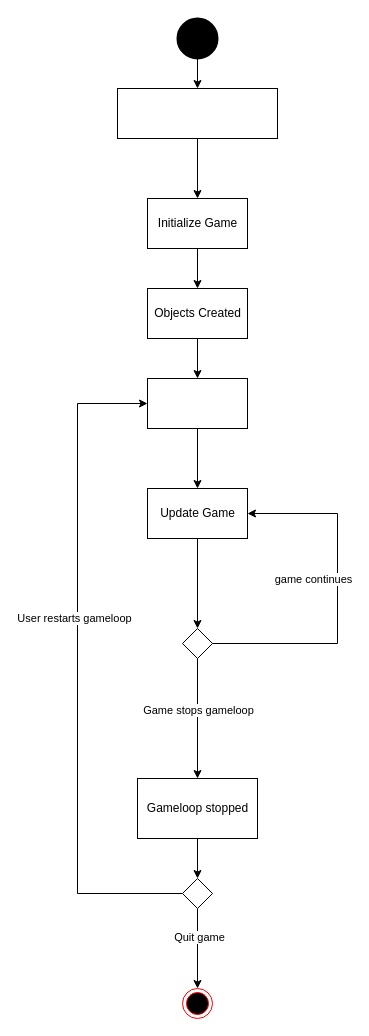
Some shapes in this 369 by 1036 pixel diagram are drawn without their labels. The centre of each missing label's shape, as x and y in pixels:
"Create React Components" goes at [197,113].
"Start GameLoop" goes at [197,403].
